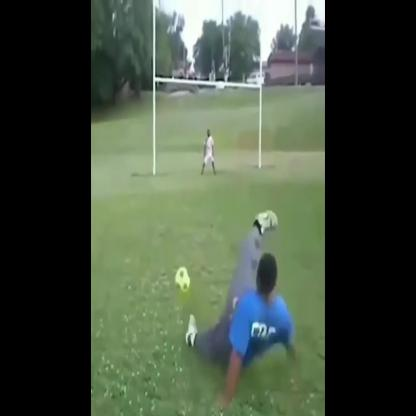Fall_Down: (186, 208, 303, 410)
